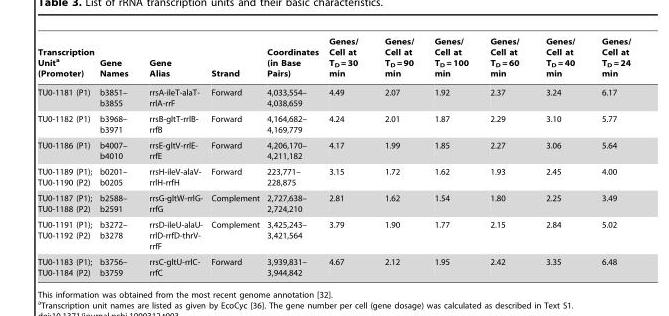table: (37, 36, 630, 276)
table column: (138, 36, 206, 276), (262, 36, 323, 276), (37, 36, 96, 276), (206, 36, 262, 276), (531, 36, 587, 276), (423, 36, 478, 276), (370, 36, 423, 276), (478, 36, 531, 276), (323, 36, 370, 276), (587, 36, 630, 276), (96, 36, 138, 276)
table column header: (37, 36, 630, 82)
table row: (37, 36, 630, 82), (37, 216, 630, 253), (37, 82, 630, 110), (37, 110, 630, 137), (37, 163, 630, 190), (37, 137, 630, 163), (37, 190, 630, 216), (37, 253, 630, 276)
